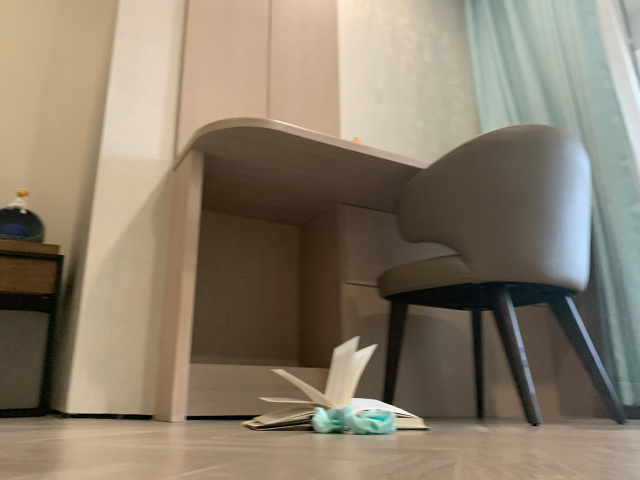book: (239, 334, 432, 433)
cabinet: (151, 114, 433, 425), (1, 238, 68, 419)
curtain: (463, 1, 640, 411)
socks: (309, 405, 397, 436)
stool: (376, 122, 629, 428)
